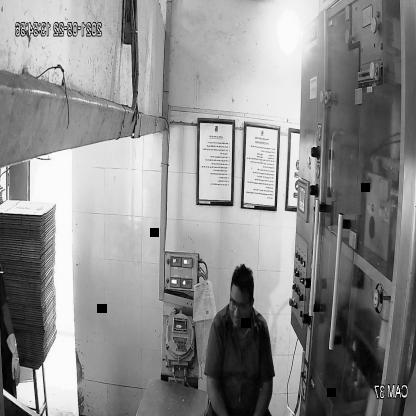goggles: (227, 289, 256, 318)
